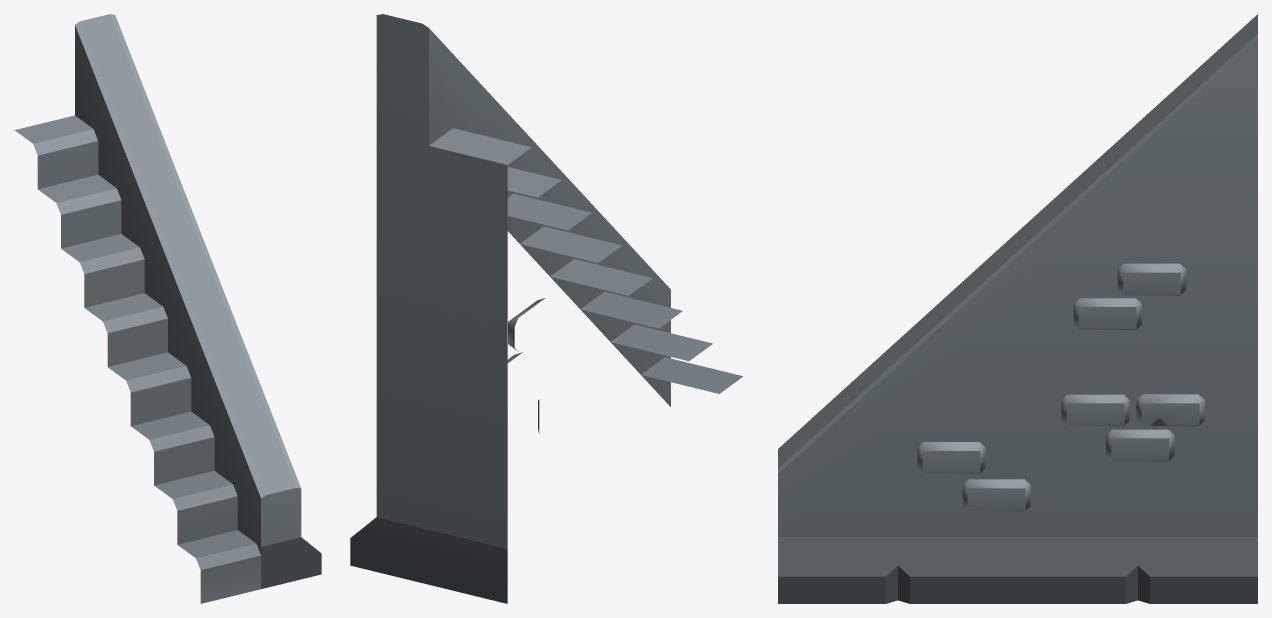
Rendered from stairs_modular_right.glb.
3 renders of one model, left to right at view 1: azimuth 30°, elevation 25°; view 2: azimuth 150°, elevation 25°; view 3: azimuth 270°, elevation 25°, orthographic. The views are drawn at different scales.
Parts seen in each view (by area): view 1: stairs_modular_right; view 2: stairs_modular_right; view 3: stairs_modular_right.
Part boxes in pixels (x1,y1,x2,y2): stairs_modular_right: (14,14,321,603); stairs_modular_right: (350,14,742,603); stairs_modular_right: (778,14,1257,603).
Size of the model in its own units: 1.5 by 5.1 by 4.
1 material, 1 textured.
